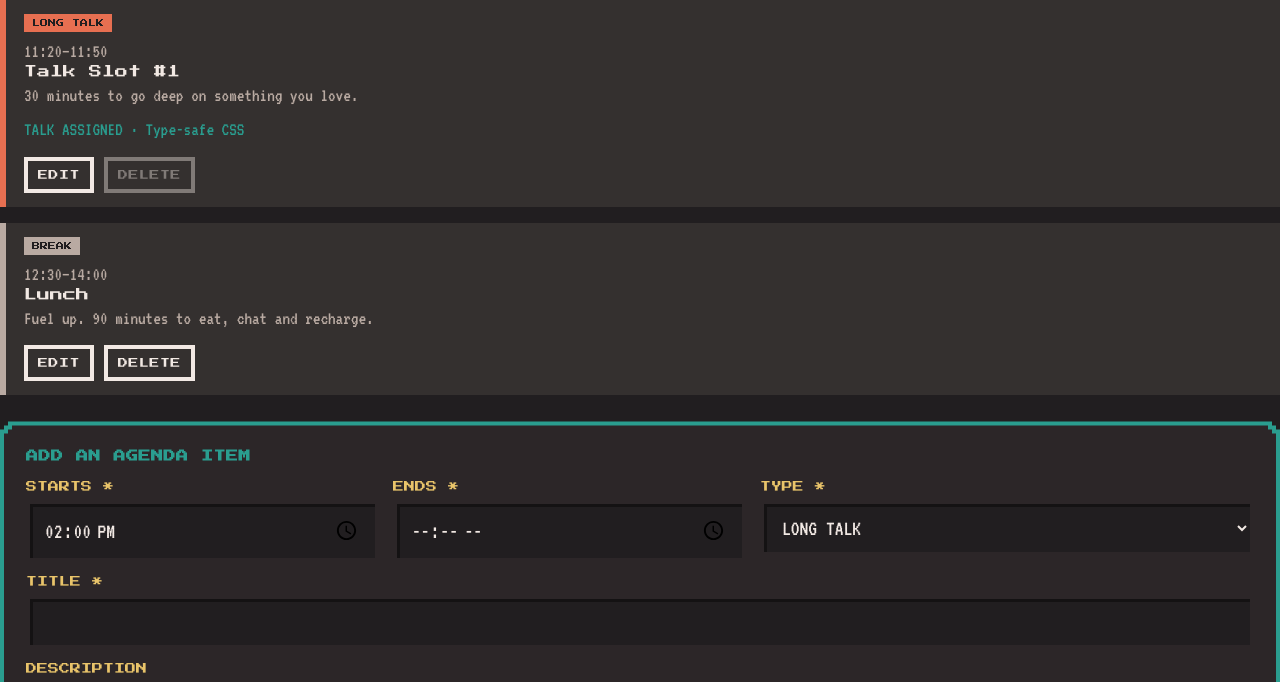
Test case: AgendaEditor › protects a slot with a talk assigned
Expected: the text "TALK ASSIGNED · Type-safe CSS" is shown, [24, 120, 244, 139]
Expected: the button "DELETE" below "TALK ASSIGNED ·" is disabled, [104, 157, 195, 193]
Click the button "EDIT" below "TALK ASSIGNED ·": click(59, 175) [24, 157, 94, 193]
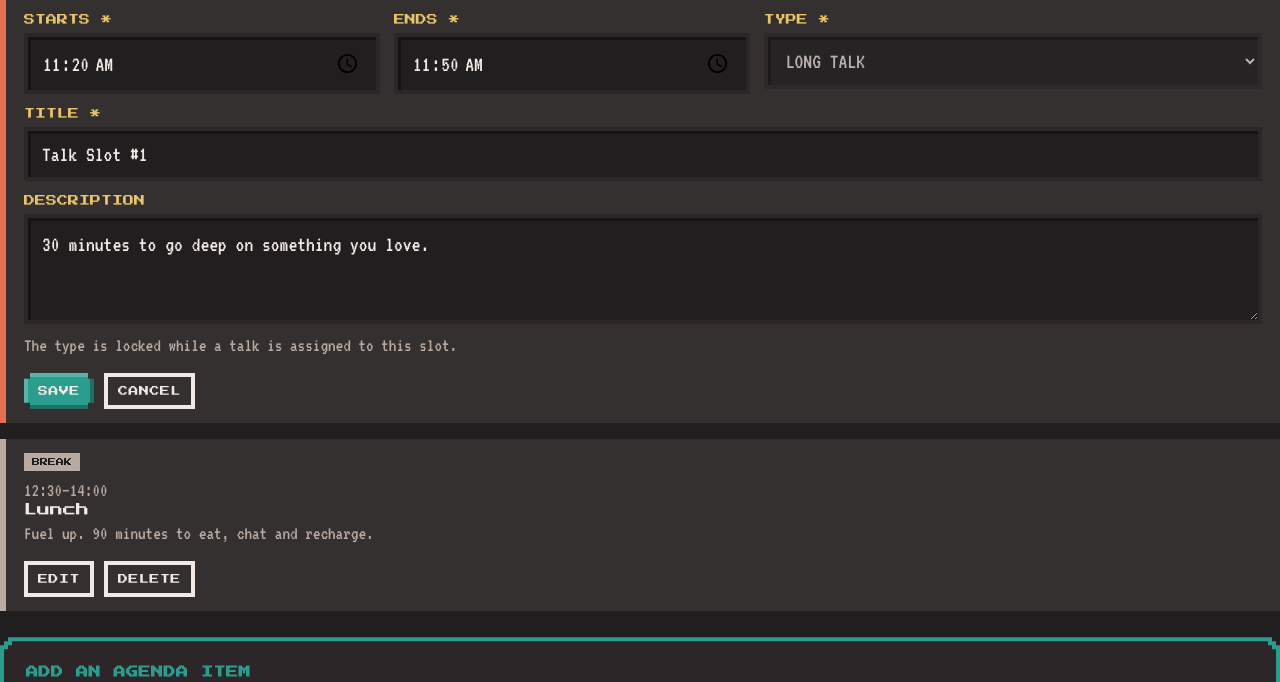
Now the 1st dropdown labelled "TYPE *" is disabled, box [764, 33, 1262, 89]
